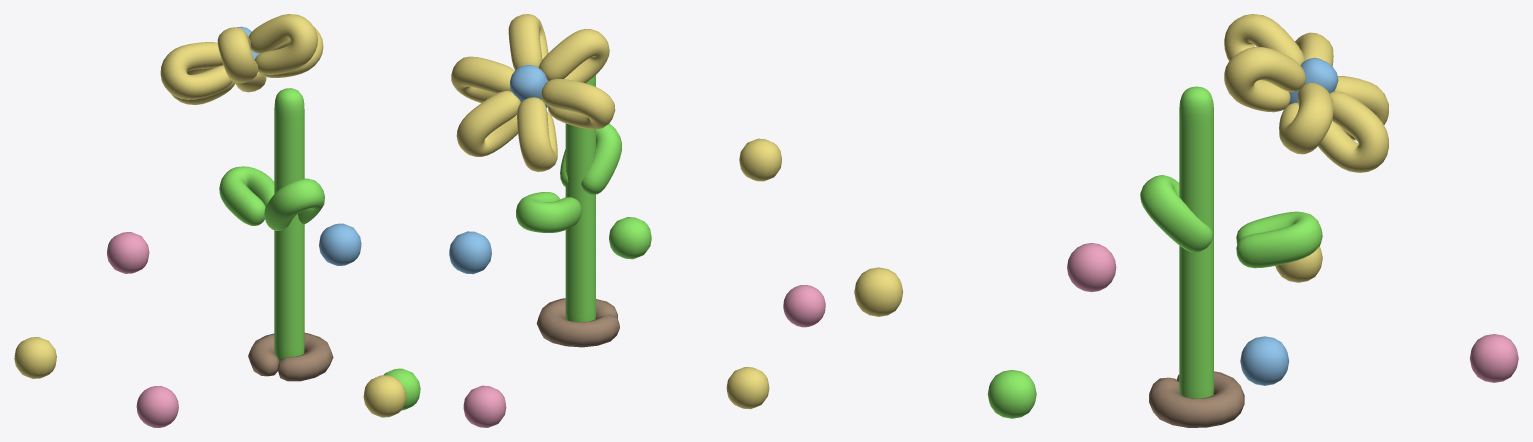
Rendered from semesterproject.glb.
The picture shows the model from 3 angles, left to right: view 1: azimuth 30°, elevation 25°; view 2: azimuth 150°, elevation 25°; view 3: azimuth 270°, elevation 25°; orthographic projection. The views are drawn at different scales.
Visible parts, largest first — view 1: Cube.008, Cube, Cube.009, Cube.010, Cube.004, Cube.001, Cube.002, Cube.005, Icosphere.001, Cube.003; view 2: Cube.008, Cube, Cube.009, Cube.010, Cube.004, Cube.001, Cube.003, Cube.005, Cube.002, Icosphere.001, mitte; view 3: Cube.008, Cube, Cube.009, Cube.010, Cube.004, Cube.001, Icosphere.001, Cube.003, Cube.005, mitte, Cube.002.
Part boxes in pixels (left/top/right/bottom): Cube.008: left=160, top=14, right=323, bottom=104; Cube: left=274, top=88, right=304, bottom=362; Cube.009: left=219, top=166, right=324, bottom=230; Cube.010: left=248, top=332, right=333, bottom=381; Cube.004: left=363, top=375, right=405, bottom=417; Cube.001: left=319, top=223, right=361, bottom=265; Cube.002: left=14, top=337, right=56, bottom=378; Cube.005: left=107, top=232, right=149, bottom=273; Icosphere.001: left=136, top=386, right=178, bottom=427; Cube.003: left=383, top=368, right=420, bottom=410; Cube.008: left=451, top=14, right=615, bottom=171; Cube: left=565, top=75, right=595, bottom=322; Cube.009: left=516, top=124, right=621, bottom=232; Cube.010: left=536, top=298, right=619, bottom=347; Cube.004: left=739, top=138, right=781, bottom=181; Cube.001: left=449, top=231, right=491, bottom=274; Cube.003: left=609, top=217, right=651, bottom=259; Cube.005: left=463, top=385, right=506, bottom=427; Cube.002: left=726, top=367, right=769, bottom=409; Icosphere.001: left=783, top=285, right=825, bottom=327; mitte: left=510, top=65, right=548, bottom=107; Cube.008: left=1224, top=14, right=1388, bottom=172; Cube: left=1179, top=86, right=1213, bottom=398; Cube.009: left=1140, top=175, right=1322, bottom=268; Cube.010: left=1149, top=371, right=1244, bottom=427; Cube.004: left=854, top=267, right=903, bottom=316; Cube.001: left=1240, top=336, right=1289, bottom=385; Icosphere.001: left=1067, top=243, right=1116, bottom=292; Cube.003: left=987, top=370, right=1036, bottom=418; Cube.005: left=1469, top=334, right=1518, bottom=382; mitte: left=1289, top=57, right=1338, bottom=104; Cube.002: left=1275, top=246, right=1322, bottom=282.
Size of the model in its own units: 4.36 by 4.17 by 6.62.
